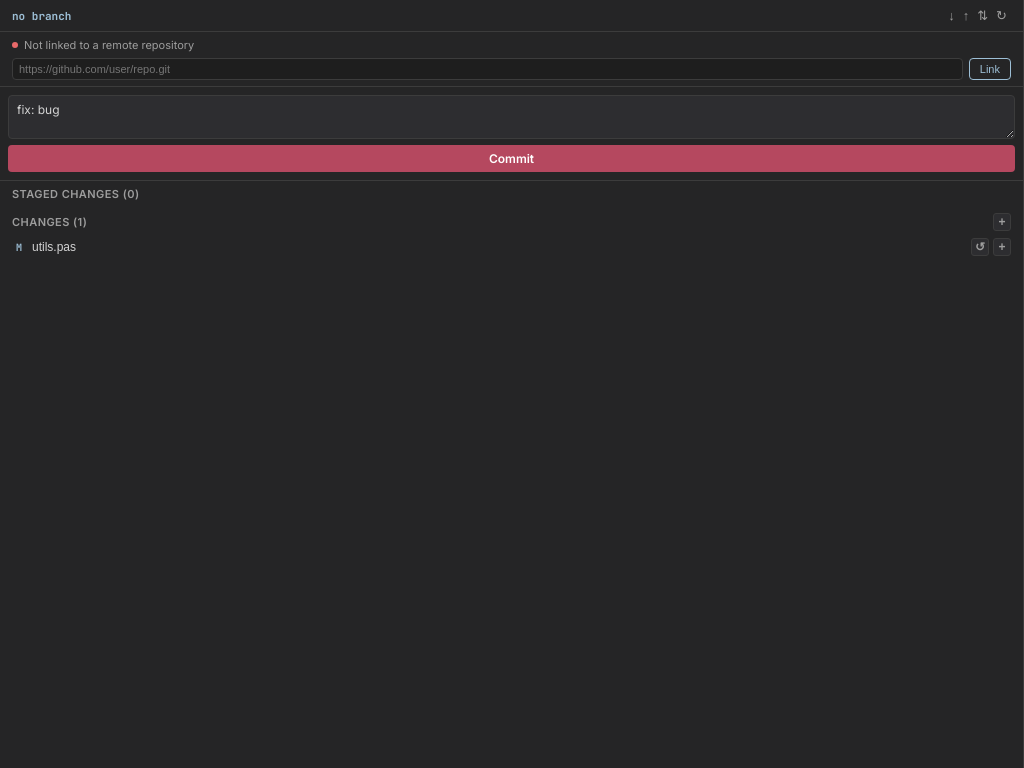
Test: GitPanel › auto-stage prompt on commit › shows the prompt when nothing is staged and mode is "ask" (default)
What coordinates should you click on to do the following:
click the button "Commit"
I would click on:
 (512, 158)
Its box is [8,145,1015,172].
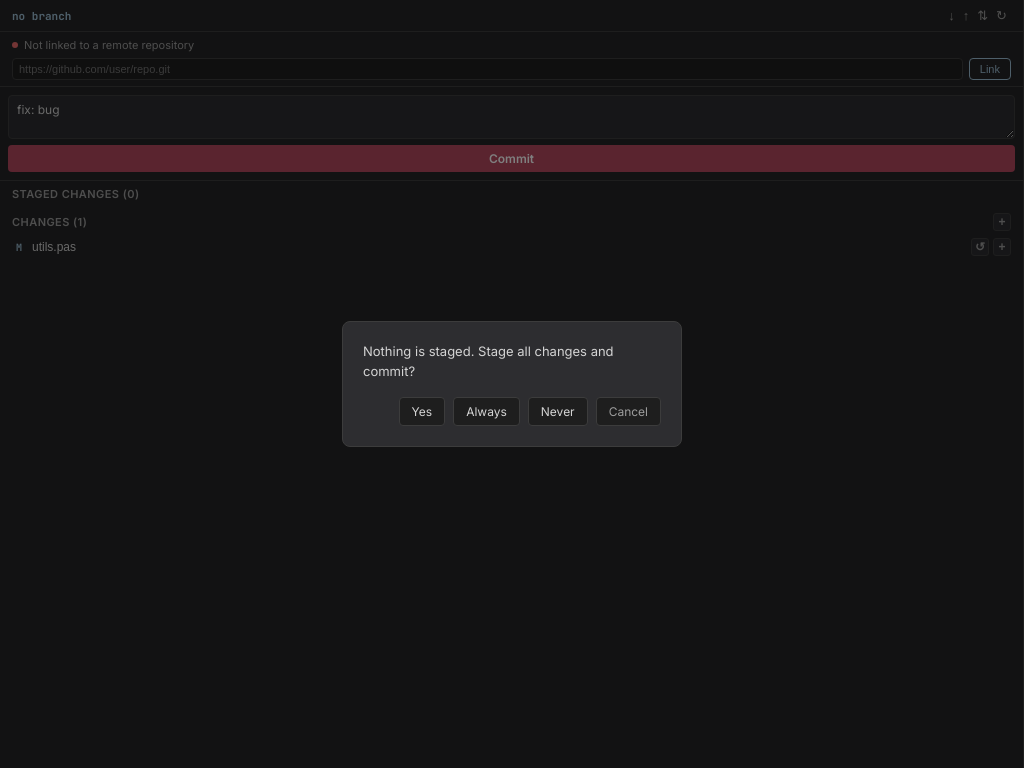
Check: the text "Nothing is staged. Stage all changes and commit?" is shown, box [363,343,614,378]
